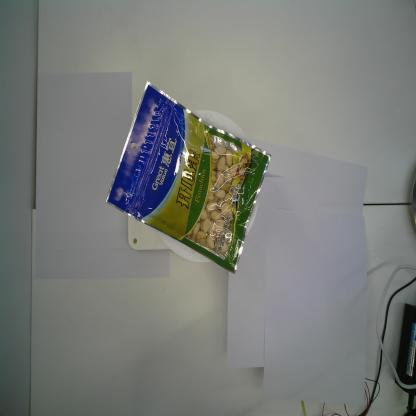Dried Fruit: (104, 77, 273, 277)
